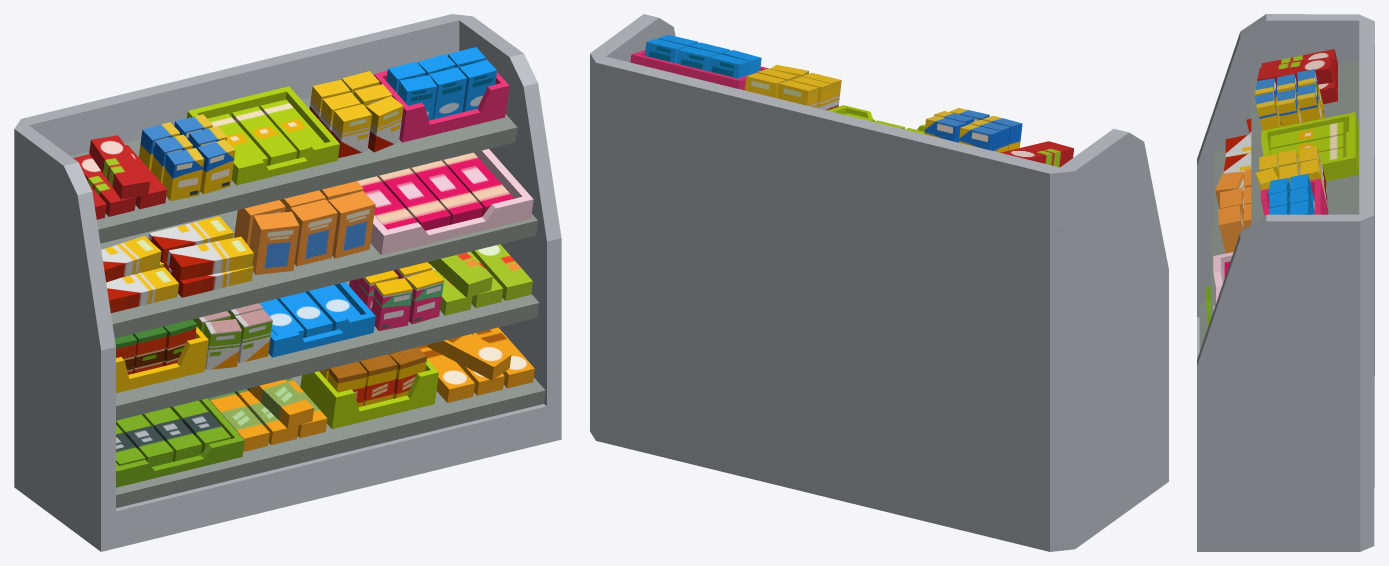
File: SM_Prop_Market_Checkout_Shelf_Large_03.obj
The picture shows the model from 3 angles, left to right: view 1: azimuth 30°, elevation 25°; view 2: azimuth 150°, elevation 25°; view 3: azimuth 270°, elevation 25°; orthographic projection. The views are drawn at different scales.
Parts seen in each view (by area): view 1: SM_Prop_Market_Checkout_Shelf_Large_03_0, SM_Prop_Market_Checkout_Shelf_Large_03_1; view 2: SM_Prop_Market_Checkout_Shelf_Large_03_1, SM_Prop_Market_Checkout_Shelf_Large_03_0; view 3: SM_Prop_Market_Checkout_Shelf_Large_03_1, SM_Prop_Market_Checkout_Shelf_Large_03_0.
Part boxes in pixels (left/top/right/bottom): SM_Prop_Market_Checkout_Shelf_Large_03_0: left=70, top=47, right=545, bottom=508; SM_Prop_Market_Checkout_Shelf_Large_03_1: left=14, top=14, right=561, bottom=551; SM_Prop_Market_Checkout_Shelf_Large_03_1: left=590, top=14, right=1168, bottom=551; SM_Prop_Market_Checkout_Shelf_Large_03_0: left=630, top=34, right=1073, bottom=231; SM_Prop_Market_Checkout_Shelf_Large_03_1: left=1197, top=14, right=1374, bottom=551; SM_Prop_Market_Checkout_Shelf_Large_03_0: left=1199, top=49, right=1359, bottom=351.
Size of the model in its own units: 1.39 by 1.03 by 0.504.
Materials: 2 (2 with a texture image).
